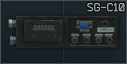Military COFDM wireless Signal Transmitter: (0, 0, 127, 64)
